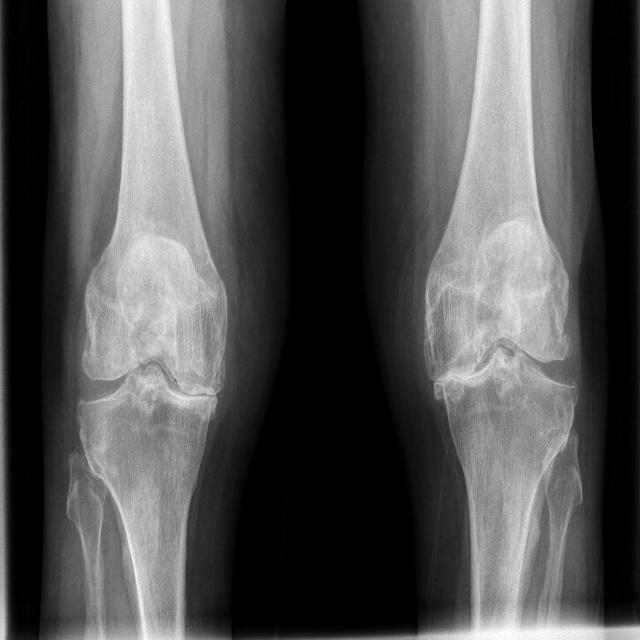Knee: (74, 294, 228, 448), (420, 294, 577, 440)
